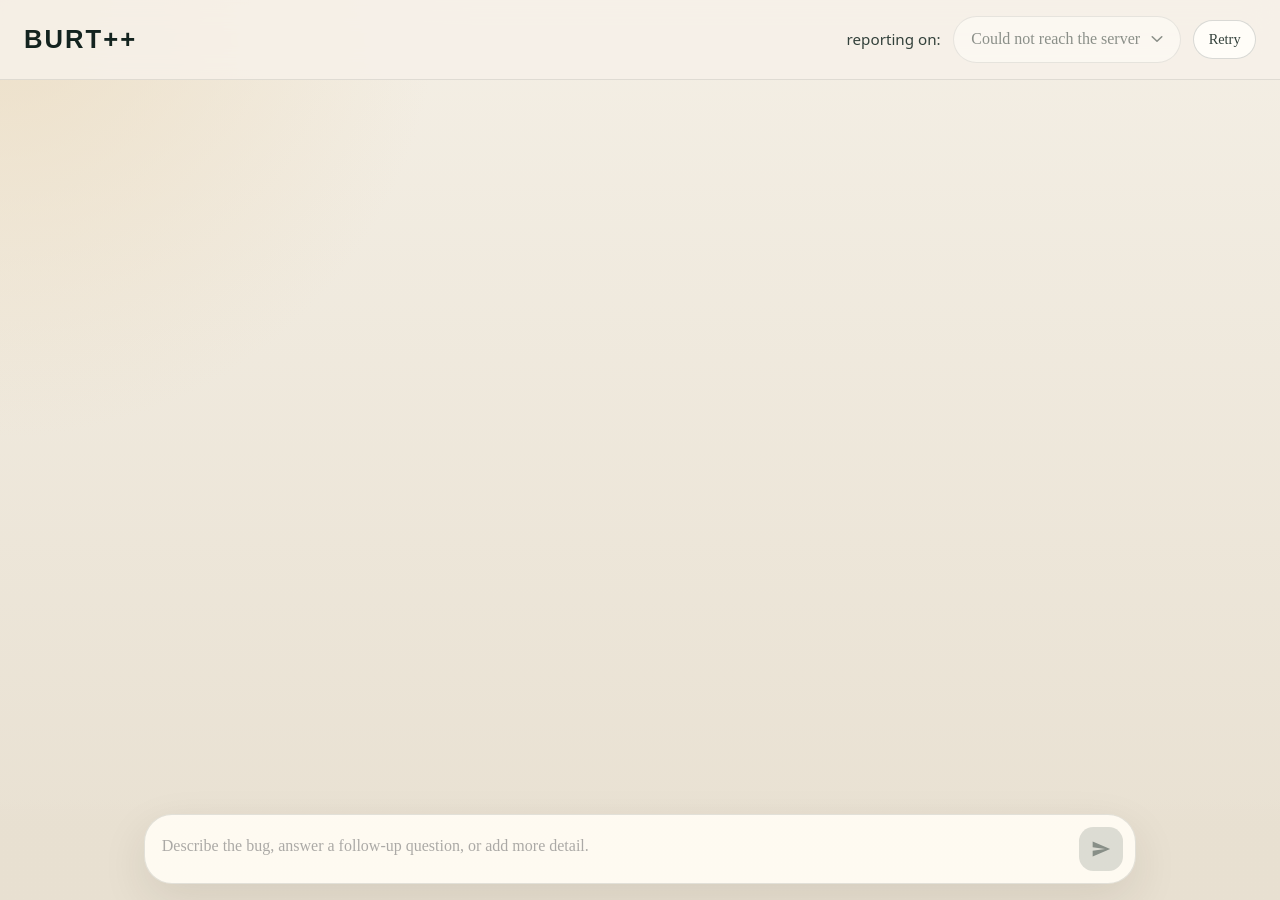
it: App › distinguishes a failed bug lookup from an empty one and recovers on retry
This screenshot has width=1280, height=900.
expect the dropdown named "Select bug to report on" is disabled: met, box x1=953 y1=16 x2=1181 y2=63
Click the button "Retry" at (1225, 39), box x1=1193 y1=20 x2=1256 y2=59
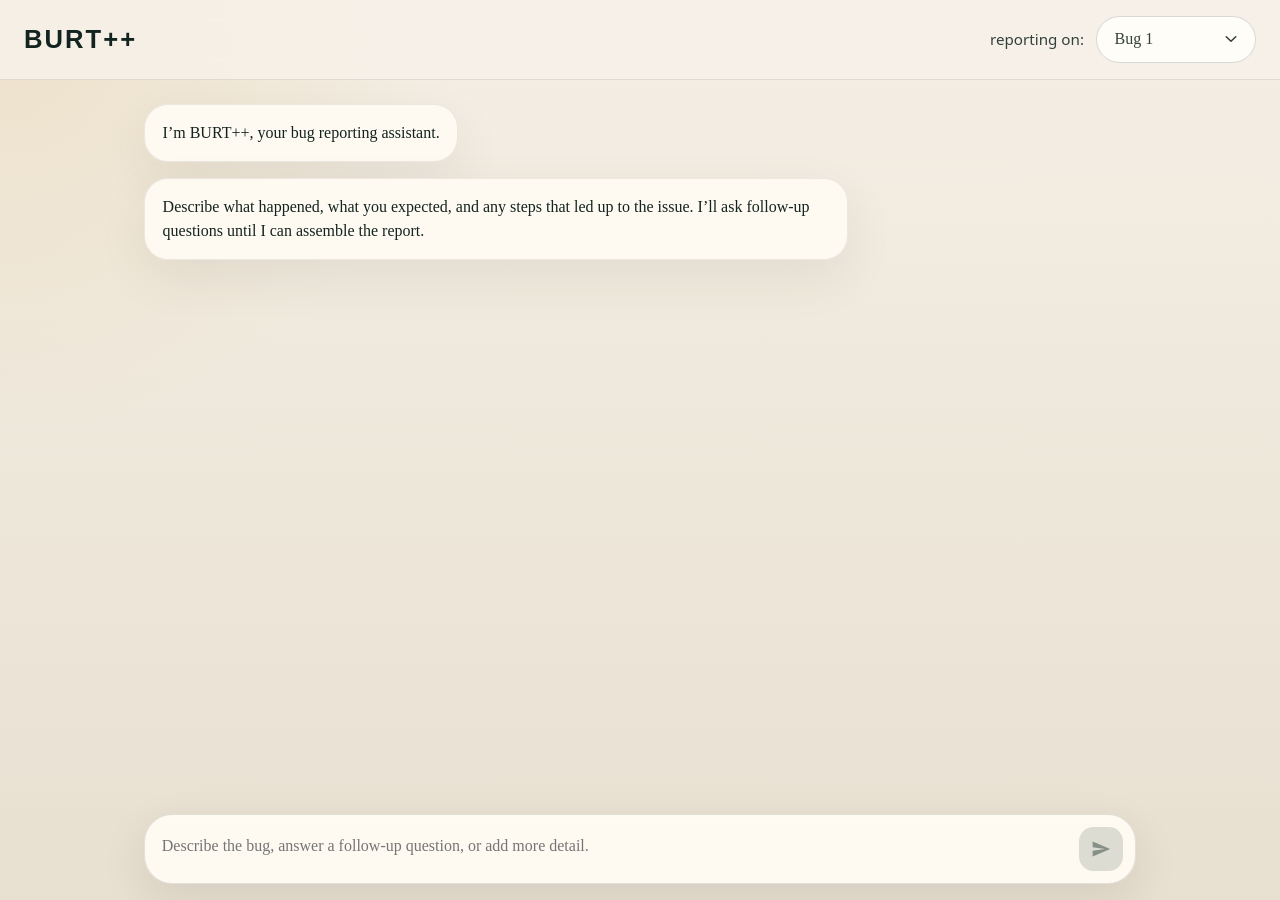
expect the dropdown named "Select bug to report on" is enabled: met, box x1=1096 y1=16 x2=1256 y2=63
expect the button "Retry" is gone: met
